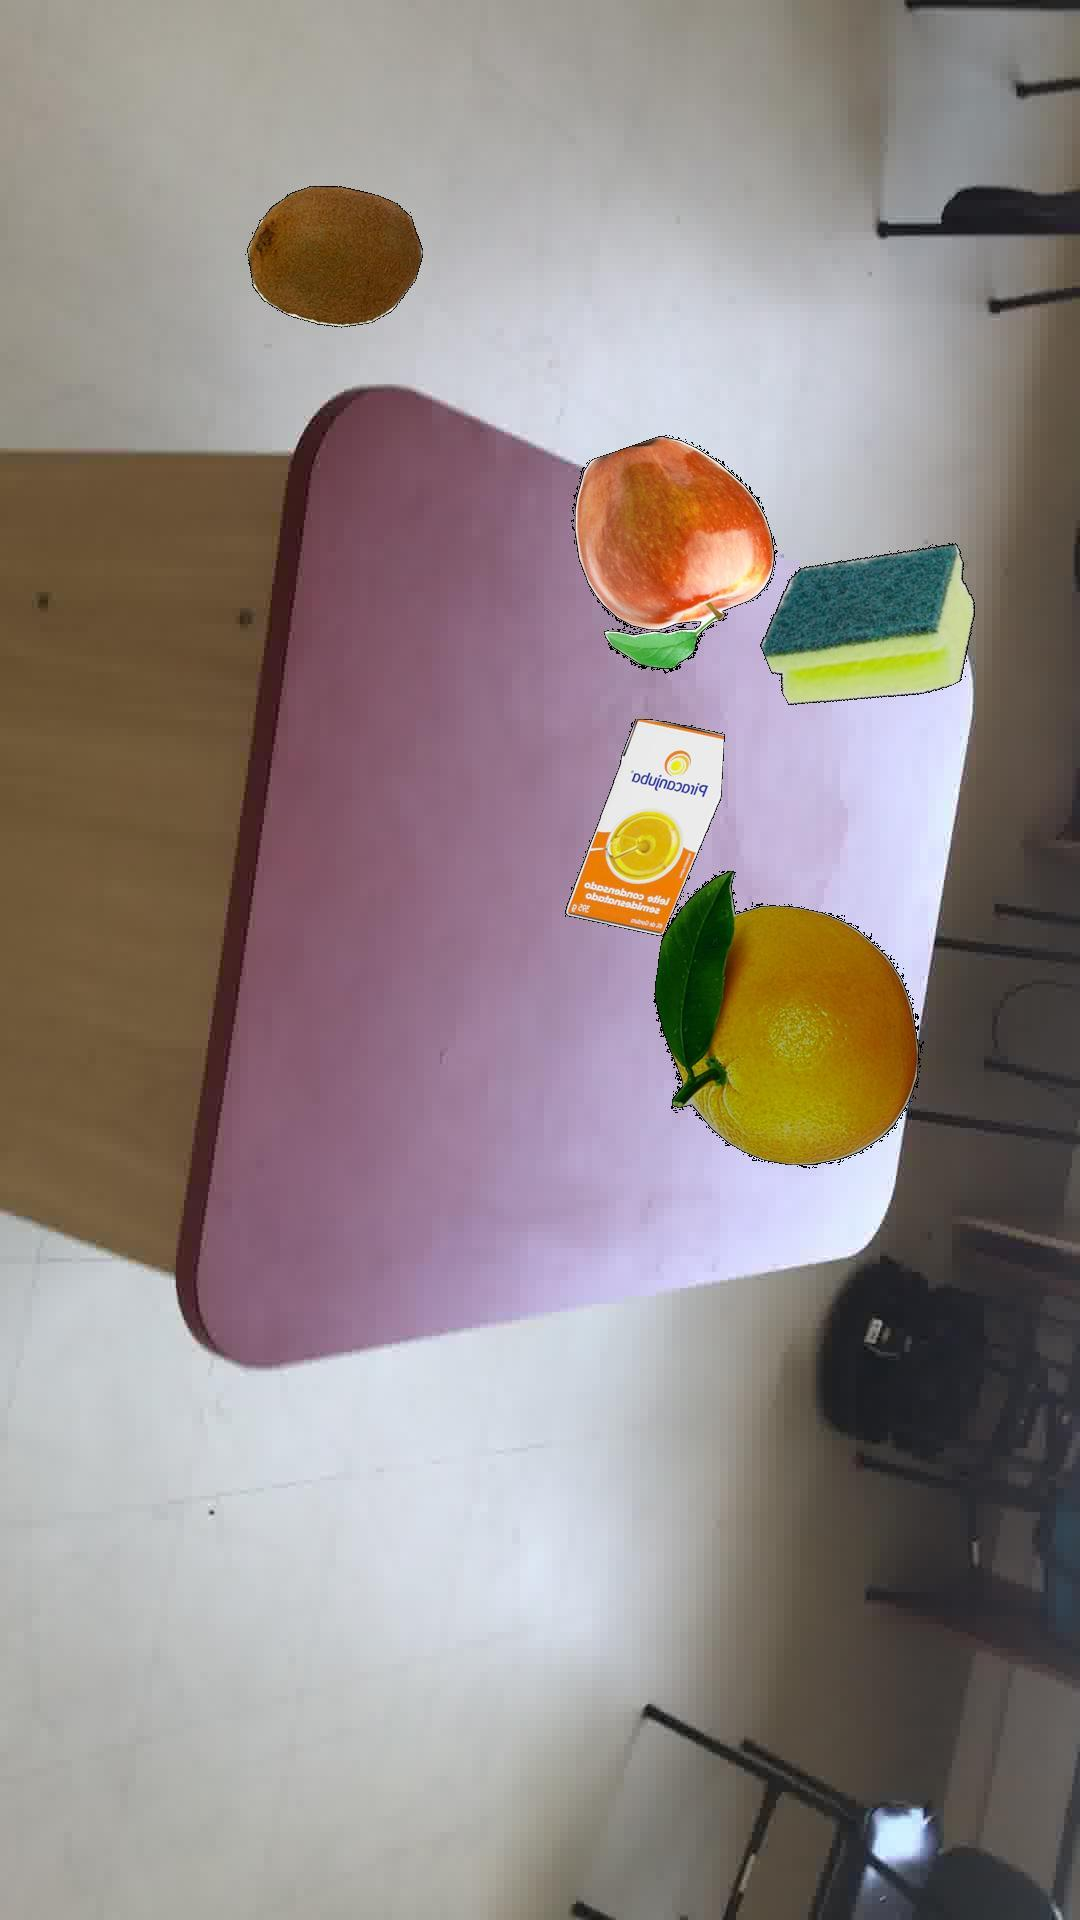apple: (571, 434, 777, 673)
kiwi: (245, 185, 422, 327)
orange: (651, 869, 919, 1167)
sponge: (758, 542, 973, 703)
